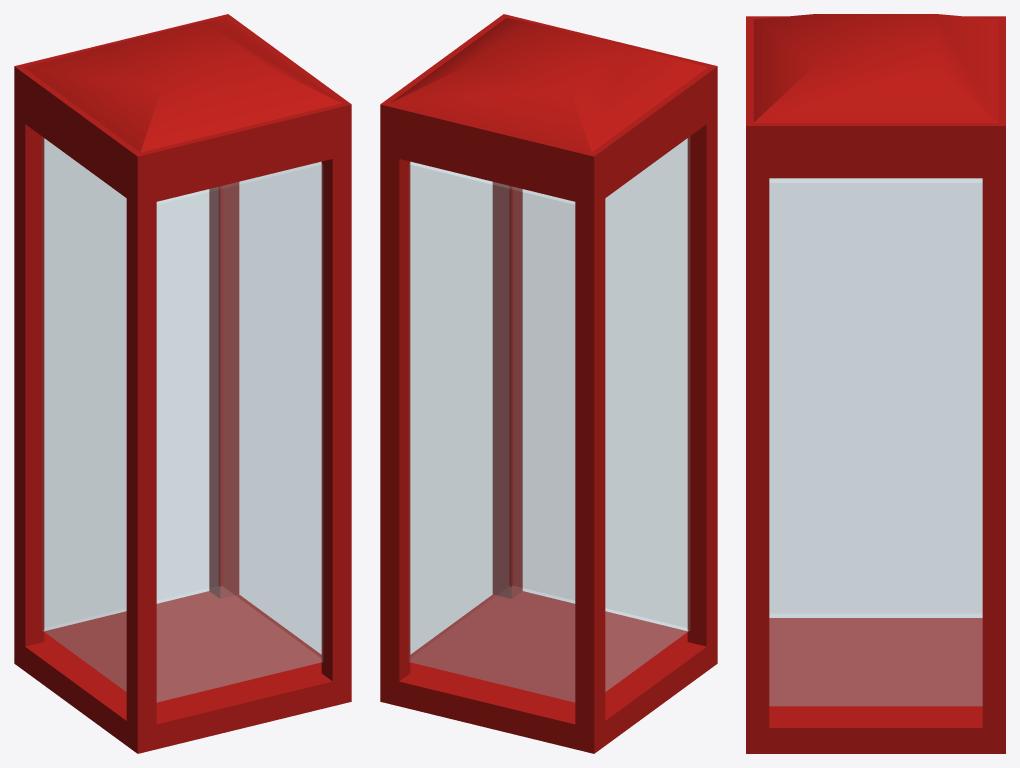
File: street.furniture.phone_box.glb
The picture shows the model from 3 angles, left to right: view 1: azimuth 30°, elevation 25°; view 2: azimuth 150°, elevation 25°; view 3: azimuth 270°, elevation 25°; orthographic projection. The views are drawn at different scales.
Visible parts, largest first — view 1: main__hazard_red, main__glass; view 2: main__hazard_red, main__glass; view 3: main__glass, main__hazard_red.
Boxes of the visible parts, x1,y1,x2,y2 form: main__hazard_red: (14, 14, 351, 753); main__glass: (42, 137, 322, 702); main__hazard_red: (380, 14, 717, 753); main__glass: (409, 137, 689, 702); main__glass: (769, 178, 982, 705); main__hazard_red: (746, 14, 1005, 753).
Size of the model in its own units: 0.9 by 2.52 by 0.9.
